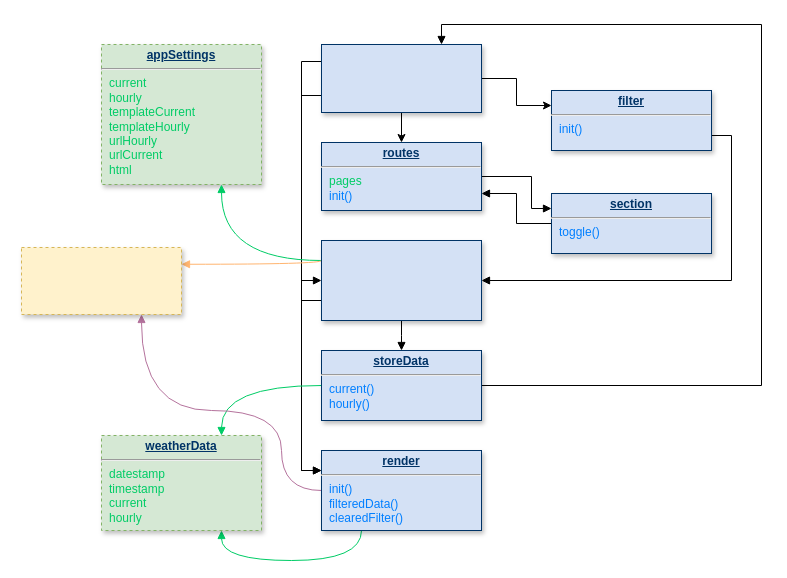
Image size: 787x578. Some labels were removed from this diagram. The centre of each missing label's shape, as x and y in pixels:
"app init() render()" goes at (x=402, y=80).
"getData current() hourly() filter()" goes at (x=402, y=282).
"Utils aja() handlebars()" goes at (x=102, y=282).
